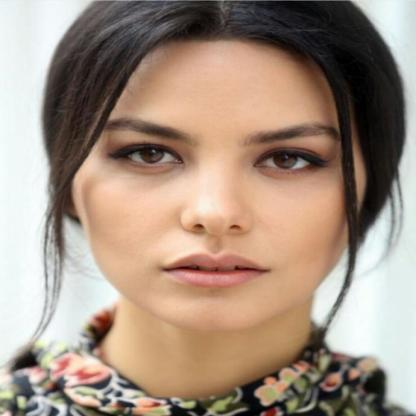person: (30, 0, 415, 336)
